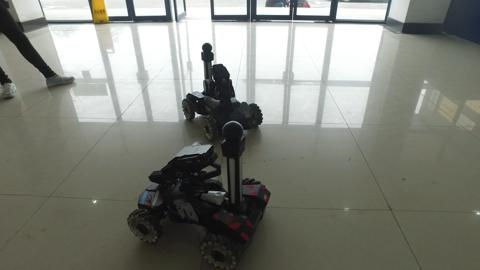chariot: (120, 120, 275, 267), (172, 41, 269, 143)
